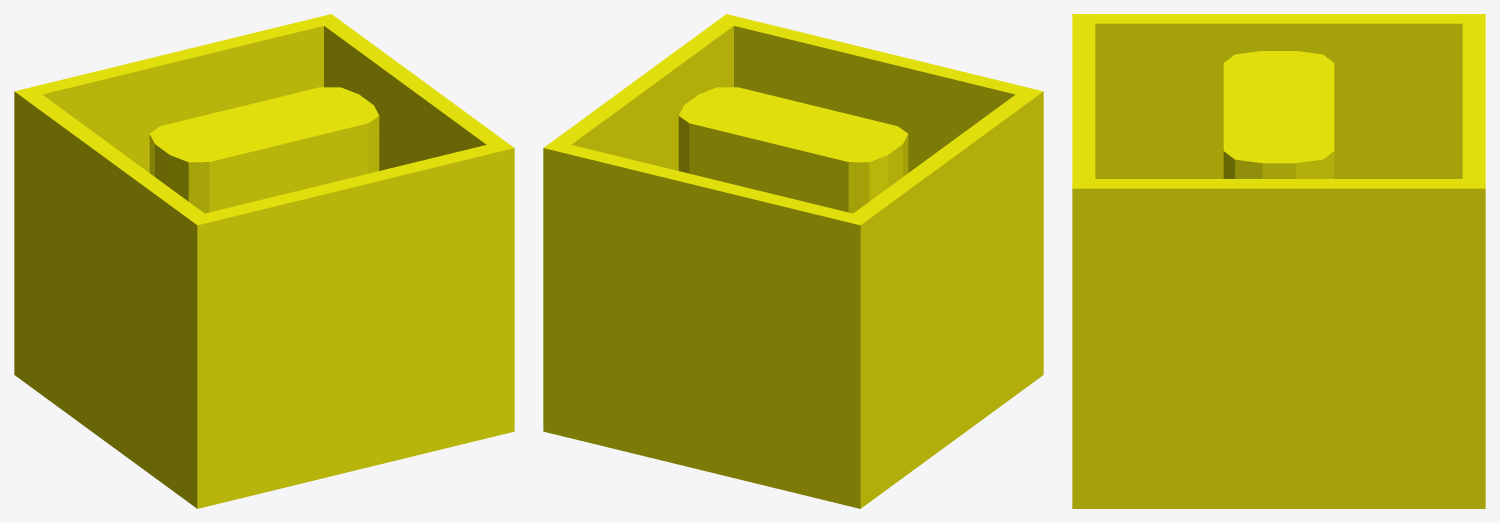
File: DashHighlight.fbx
3 renders of one model, left to right at view 1: azimuth 30°, elevation 25°; view 2: azimuth 150°, elevation 25°; view 3: azimuth 270°, elevation 25°, orthographic. The views are drawn at different scales.
Visible parts, largest first — view 1: Dash_Highlight; view 2: Dash_Highlight; view 3: Dash_Highlight.
Boxes of the visible parts, x1,y1,x2,y2 form: Dash_Highlight: (14,14,514,508); Dash_Highlight: (543,14,1043,508); Dash_Highlight: (1072,14,1485,508).
Size of the model in its own units: 224 by 191 by 224.
